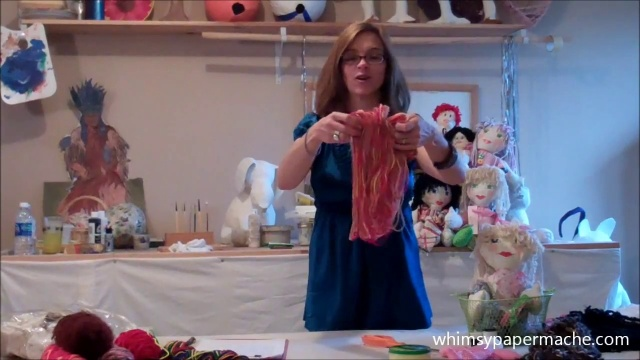person: (273, 20, 456, 335)
